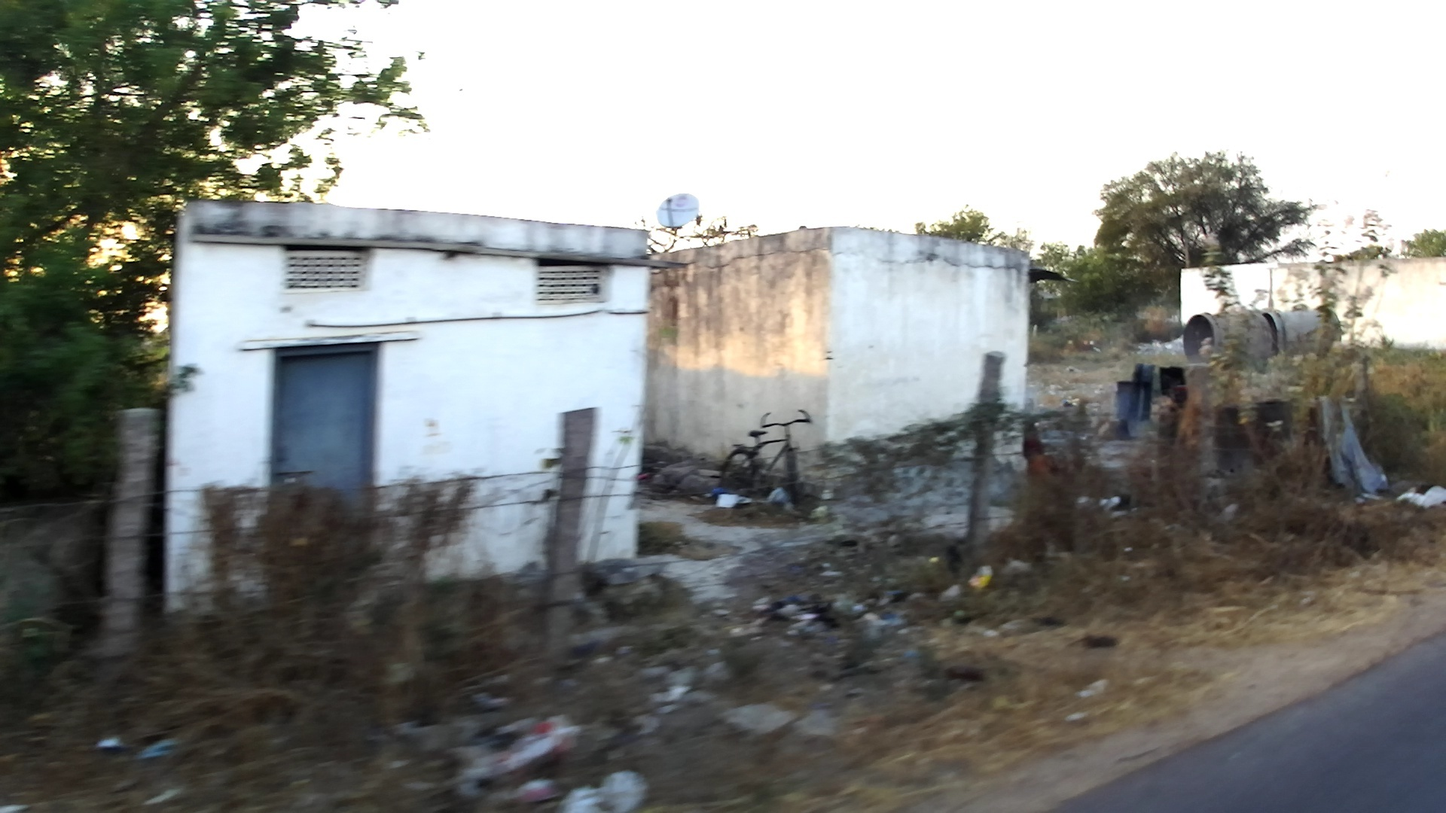bicycle: (722, 407, 818, 507)
